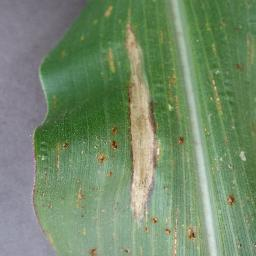Corn_Blight: (125, 8, 159, 255), (70, 118, 120, 256), (27, 126, 48, 240), (161, 213, 203, 248), (211, 144, 250, 171), (206, 69, 222, 130), (163, 63, 181, 116), (103, 39, 124, 80), (172, 123, 190, 160), (58, 131, 74, 158), (165, 172, 177, 205), (225, 190, 240, 214), (233, 48, 245, 71), (100, 5, 116, 21)
